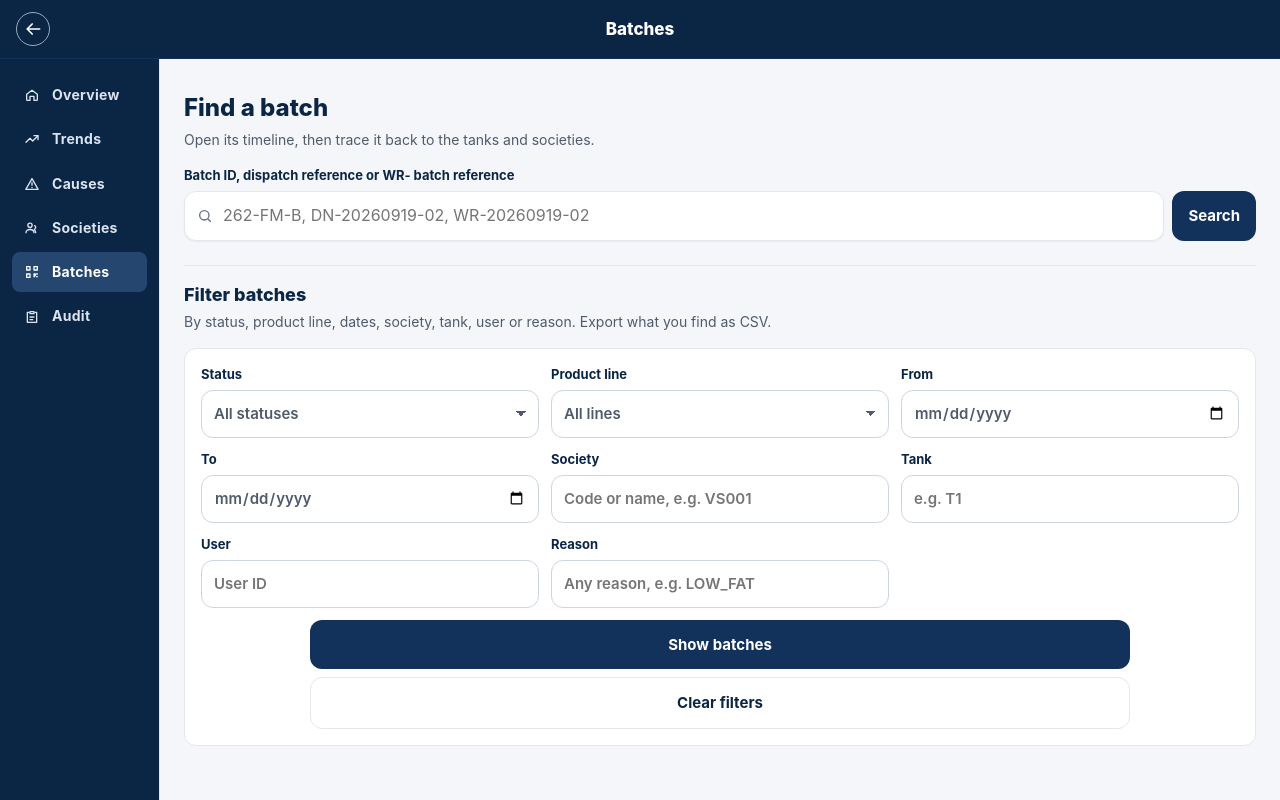
it: the batch search form (SCRUM-137) › opens the batch straight away when a batch ID matches
Type "262-fm-b" into the search field labelled "Batch ID, dispatch reference or WR- batch reference". click: (686, 216)
box: [221,203,1152,228]
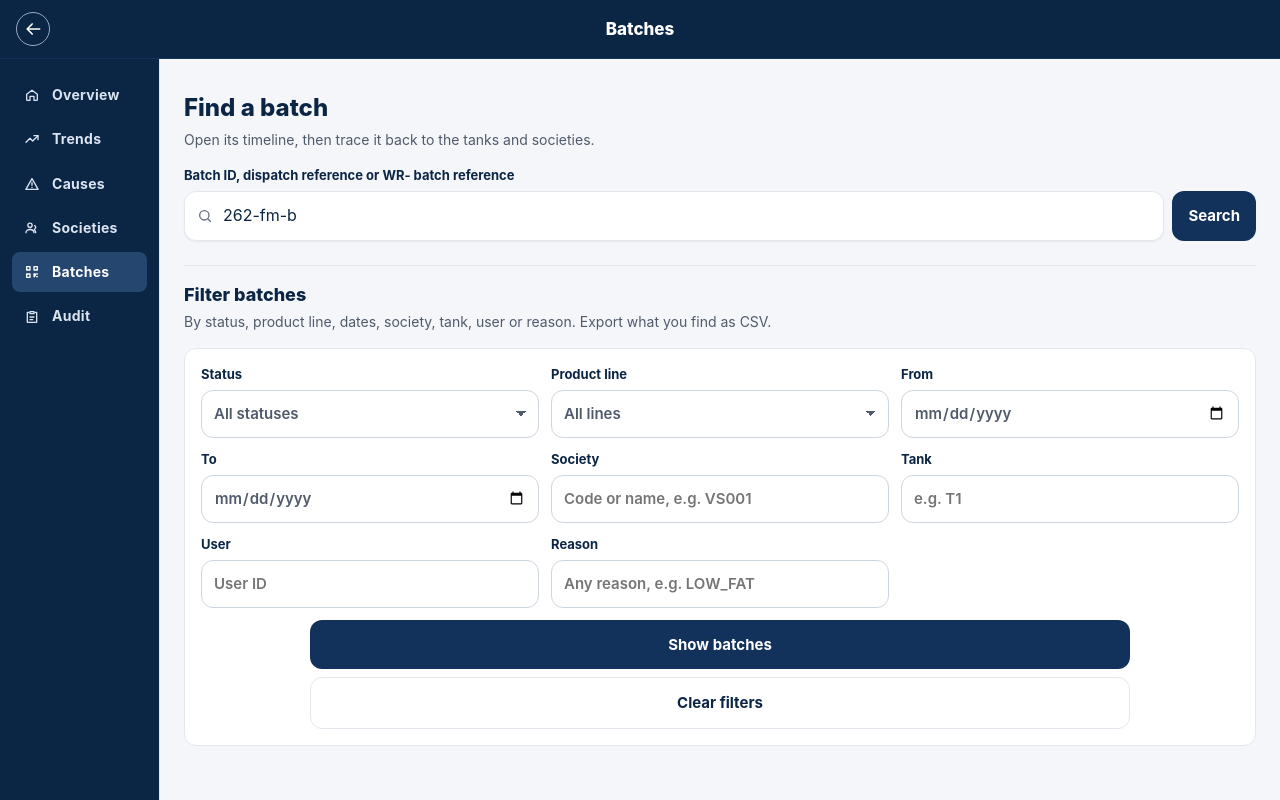
Click the button "Search". click: (1214, 216)
box: [1172,191,1256,241]
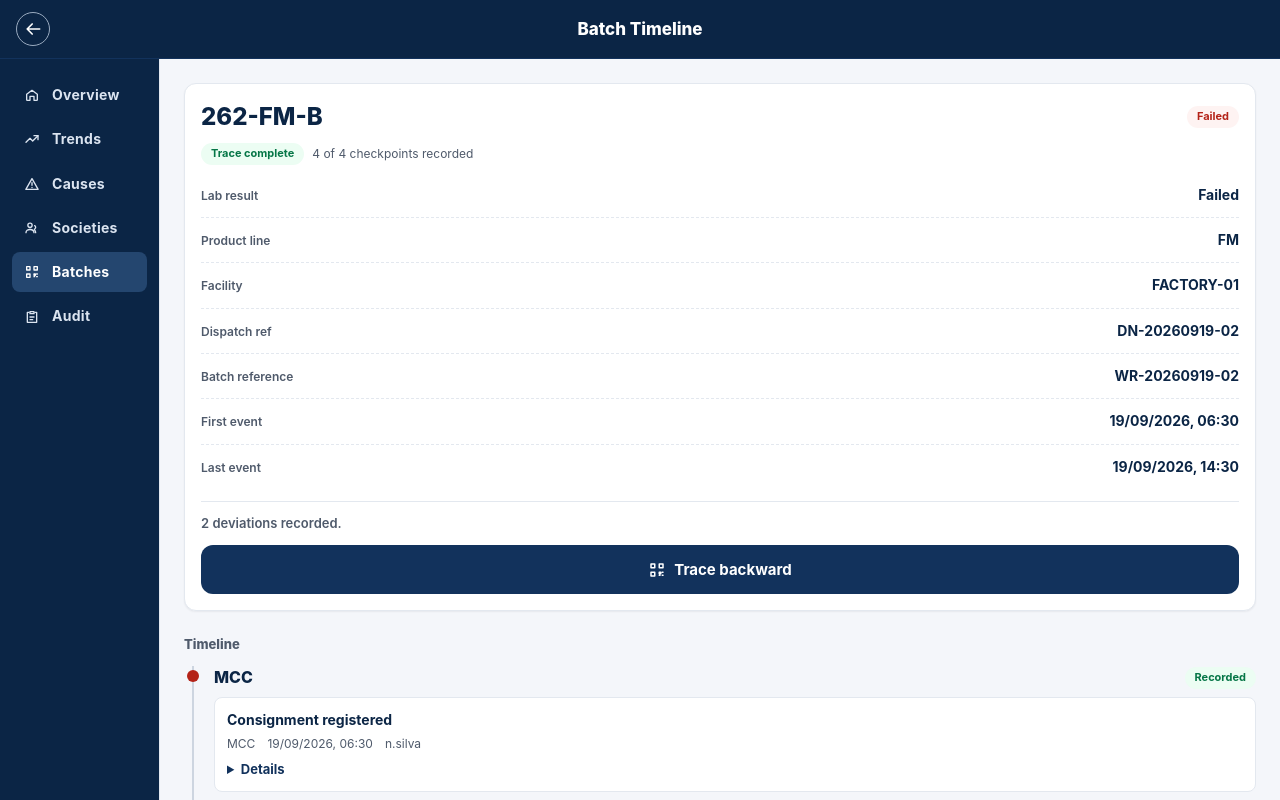
Expected: the heading "262-FM-B" is shown, [201,100,323,135]
